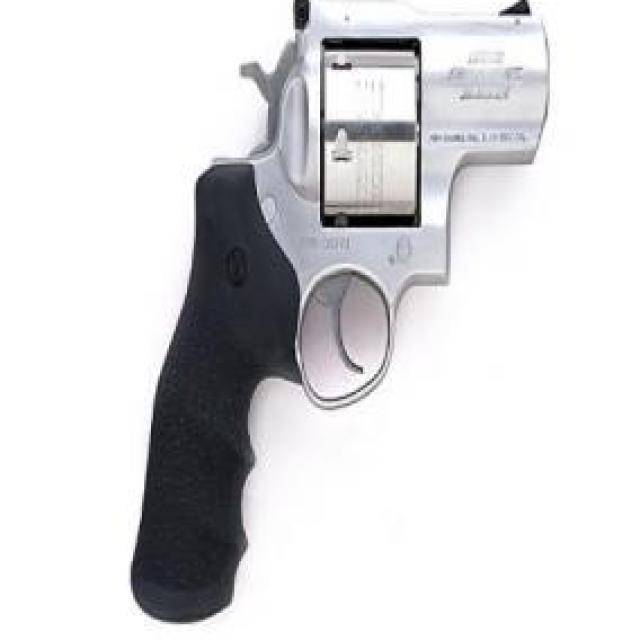pistol: (120, 0, 548, 631)
